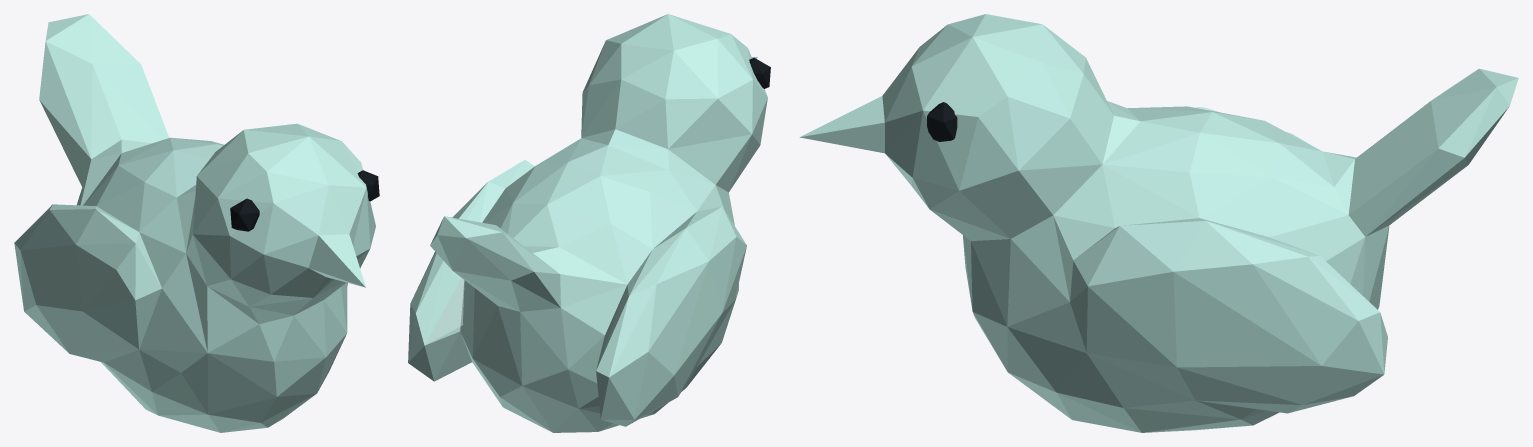
The model's file is glassbird.glb.
3 views of the same model, side by side, from view 1: azimuth 30°, elevation 25°; view 2: azimuth 150°, elevation 25°; view 3: azimuth 270°, elevation 25° (orthographic). The views are drawn at different scales.
Visible parts, largest first — view 1: GlassBird; view 2: GlassBird, GlassBirdShard.033; view 3: GlassBird.
Part boxes in pixels (x1,y1,x2,y2): GlassBird: [14, 14, 379, 432]; GlassBird: [408, 14, 770, 432]; GlassBirdShard.033: [425, 278, 464, 344]; GlassBird: [799, 14, 1518, 432].
Size of the model in its own units: 0.303 by 0.3897 by 0.6524.
